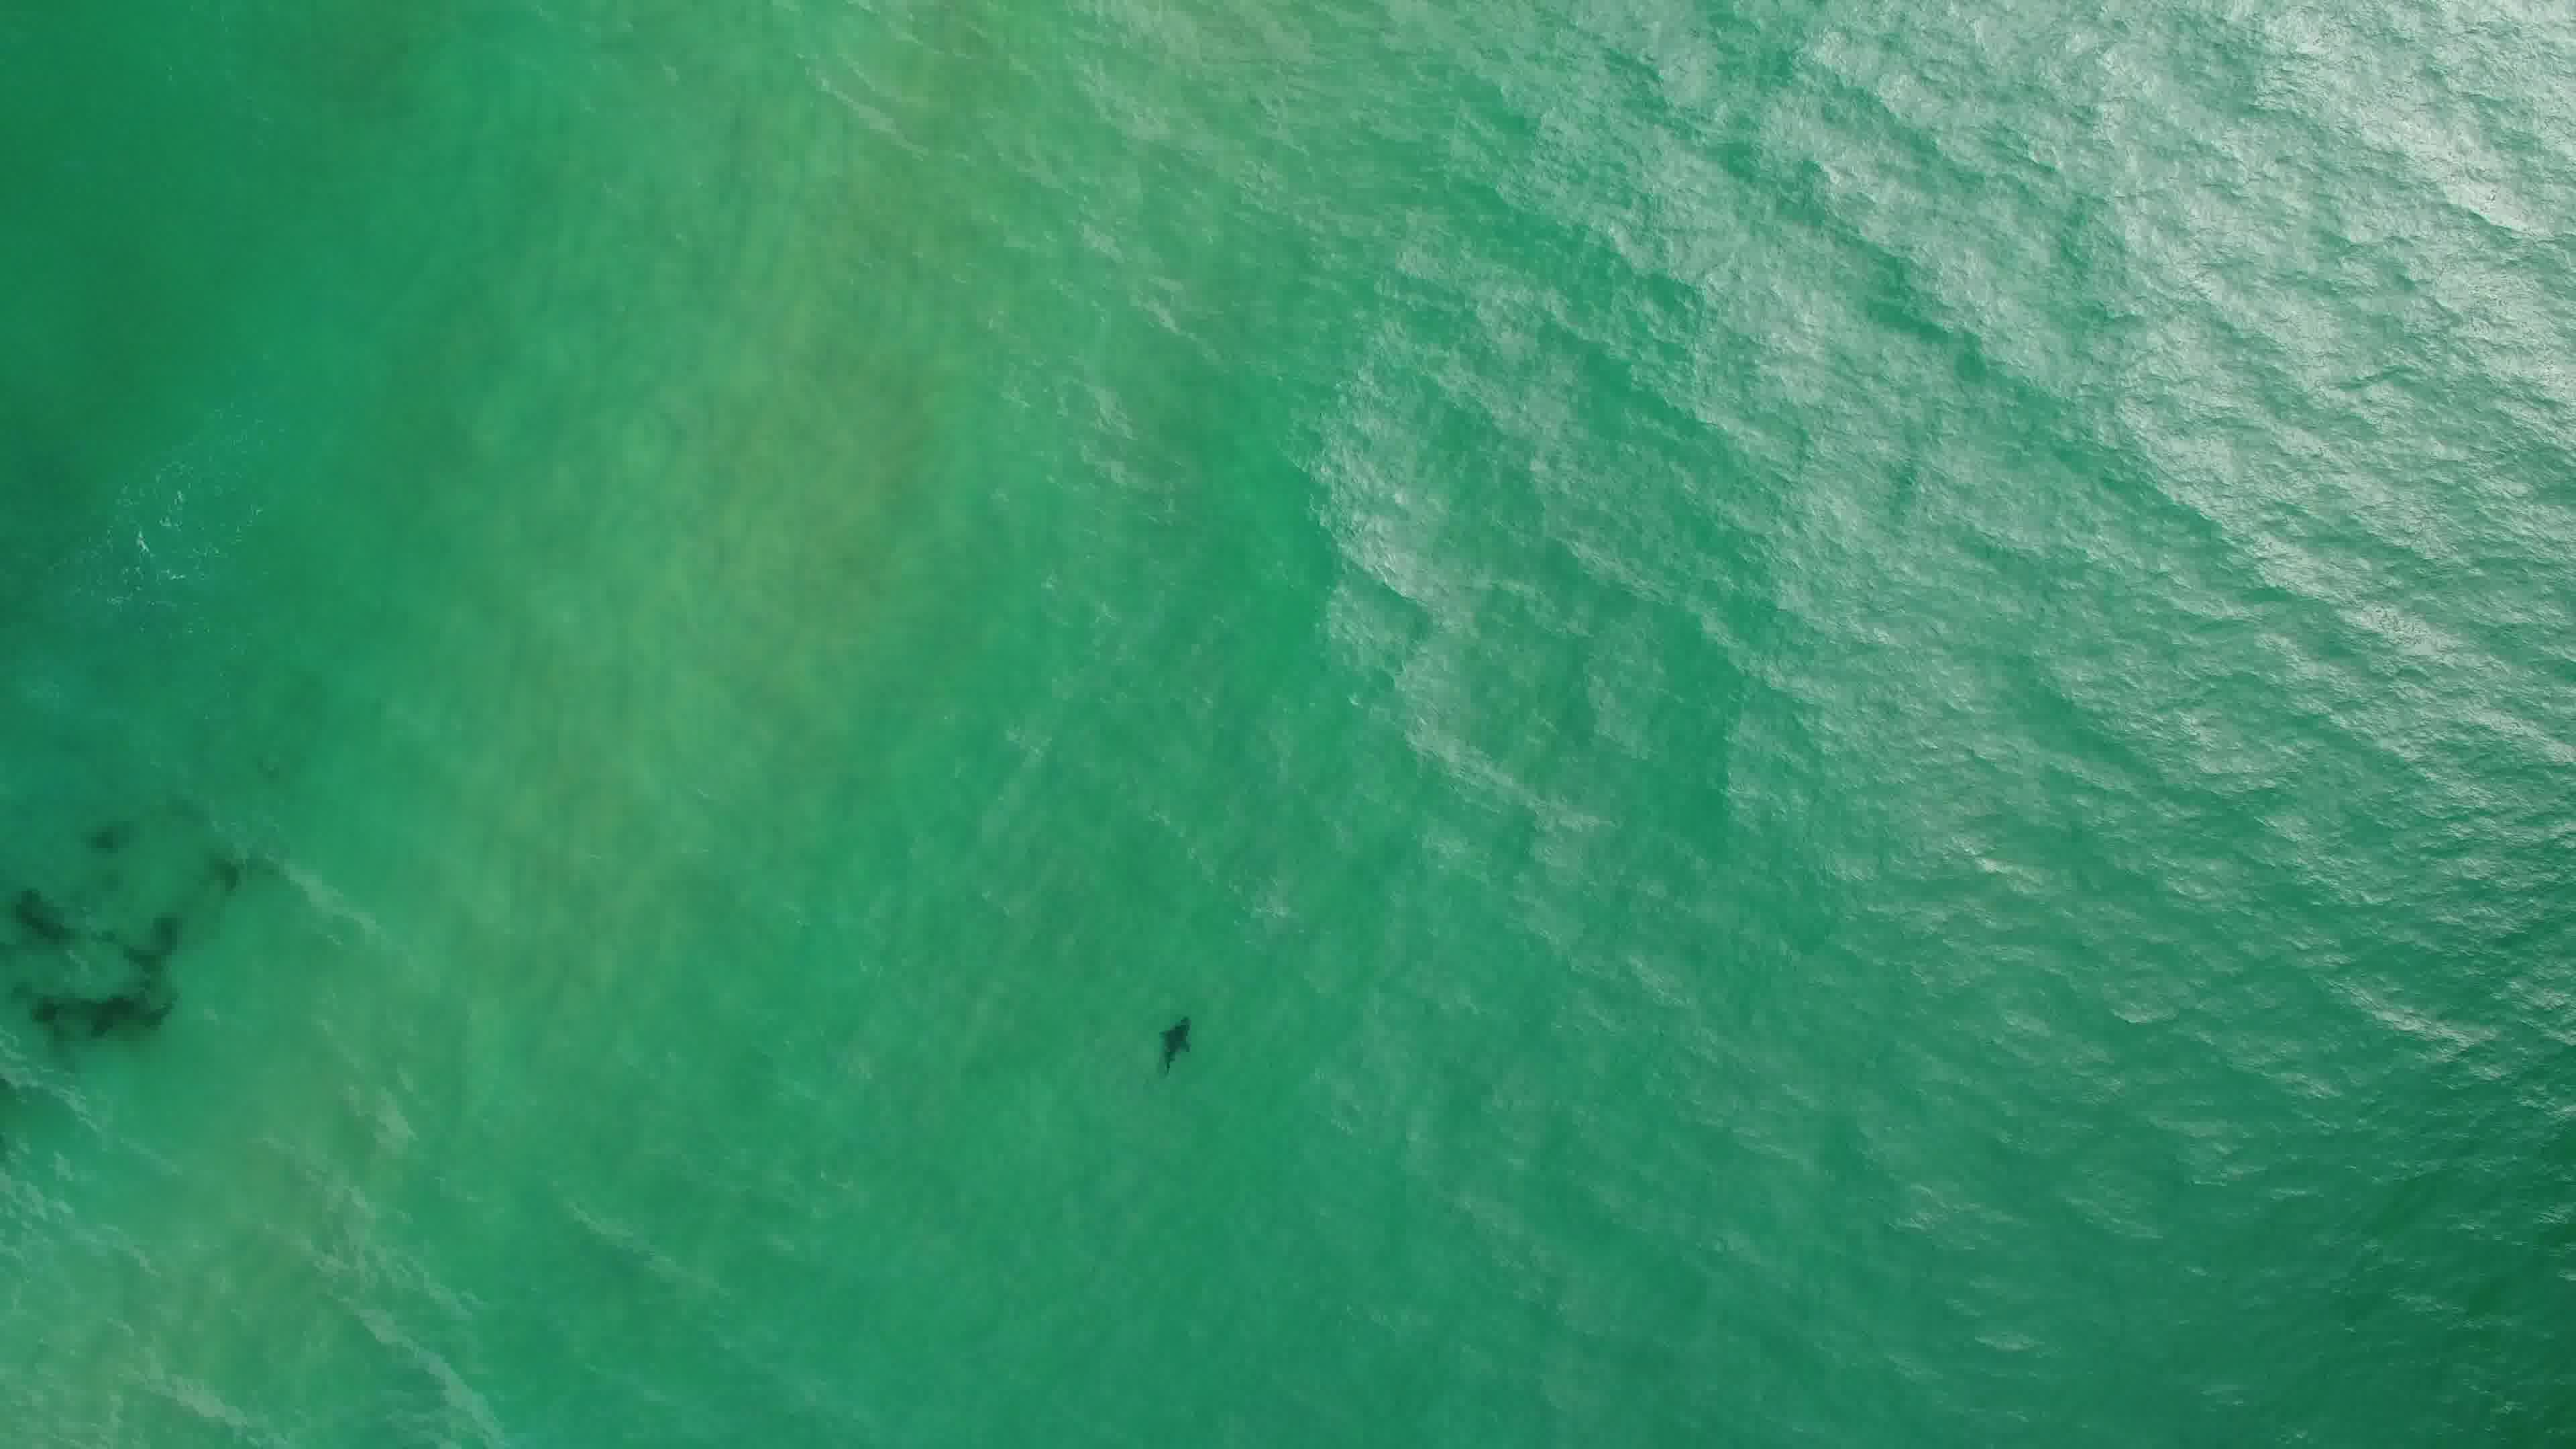shark: (1148, 1010, 1201, 1081)
